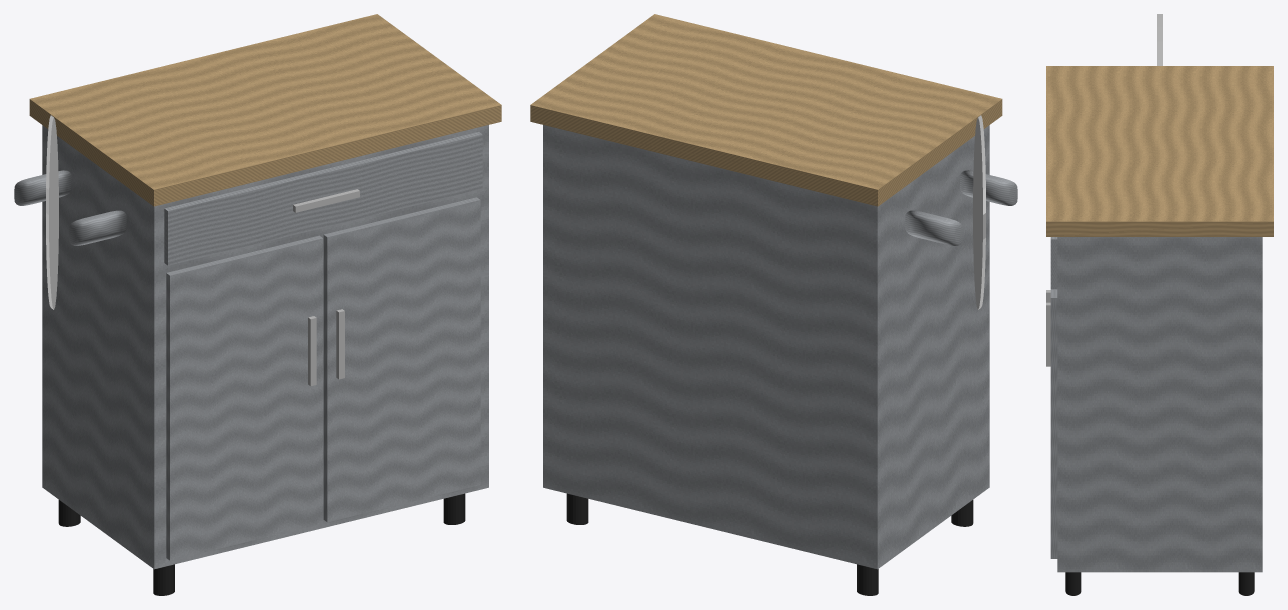
3 renders of one model, left to right at view 1: azimuth 30°, elevation 25°; view 2: azimuth 150°, elevation 25°; view 3: azimuth 270°, elevation 25°, orthographic. The views are drawn at different scales.
Parts seen in each view (by area): view 1: 2 cabinet_body, 1 countertop, 5 left_door, 6 right_door, 3 drawer_front, 11 towel_rack_bar, 9 towel_rack_front_bracket, 10 towel_rack_back_bracket, 13 front_right_wheel, 12 front_left_wheel; view 2: 2 cabinet_body, 1 countertop, 11 towel_rack_bar, 10 towel_rack_back_bracket, 9 towel_rack_front_bracket, 15 back_right_wheel, 14 back_left_wheel; view 3: 2 cabinet_body, 1 countertop, 6 right_door, 3 drawer_front, 13 front_right_wheel, 15 back_right_wheel, 8 right_door_handle.
Boxes of the visible parts, bbox=[...] form: 2 cabinet_body: bbox=[42, 125, 488, 569]; 1 countertop: bbox=[29, 14, 501, 206]; 5 left_door: bbox=[166, 235, 323, 560]; 6 right_door: bbox=[323, 197, 480, 522]; 3 drawer_front: bbox=[164, 132, 482, 265]; 11 towel_rack_bar: bbox=[46, 115, 58, 309]; 9 towel_rack_front_bracket: bbox=[69, 210, 126, 245]; 10 towel_rack_back_bracket: bbox=[14, 170, 71, 205]; 13 front_right_wheel: bbox=[443, 493, 465, 524]; 12 front_left_wheel: bbox=[153, 564, 174, 595]; 2 cabinet_body: bbox=[543, 125, 989, 569]; 1 countertop: bbox=[530, 14, 1002, 206]; 11 towel_rack_bar: bbox=[973, 115, 985, 309]; 10 towel_rack_back_bracket: bbox=[905, 210, 962, 245]; 9 towel_rack_front_bracket: bbox=[960, 170, 1017, 205]; 15 back_right_wheel: bbox=[566, 493, 588, 524]; 14 back_left_wheel: bbox=[857, 564, 878, 595]; 2 cabinet_body: bbox=[1057, 237, 1262, 572]; 1 countertop: bbox=[1046, 66, 1273, 236]; 6 right_door: bbox=[1050, 289, 1057, 558]; 3 drawer_front: bbox=[1050, 237, 1057, 289]; 13 front_right_wheel: bbox=[1065, 572, 1081, 595]; 15 back_right_wheel: bbox=[1238, 572, 1254, 595]; 8 right_door_handle: bbox=[1046, 302, 1050, 366].
Size of the model in its own units: 0.8318 by 0.9144 by 0.4509.
4 materials, 2 textured.
